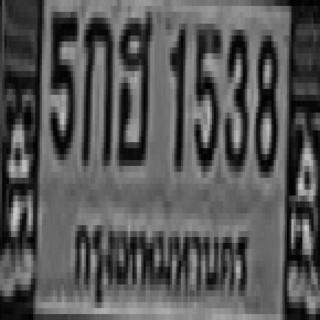A01: (80, 12, 110, 160)
A44: (116, 6, 151, 160)
N01: (168, 18, 185, 166)
N03: (223, 24, 247, 166)
N05: (192, 18, 221, 166), (48, 6, 75, 154)
N08: (254, 30, 276, 172)
P04: (64, 200, 256, 314)
